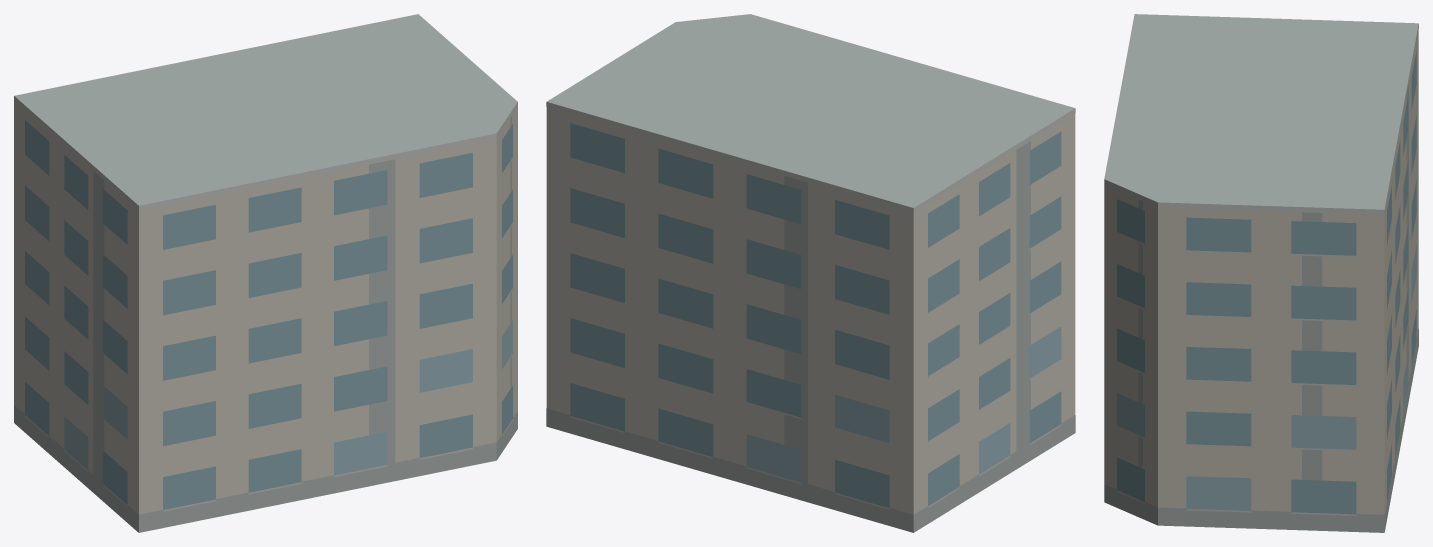
The model's file is survey-upis-32768497.glb.
3 renders of one model, left to right at view 1: azimuth 30°, elevation 25°; view 2: azimuth 150°, elevation 25°; view 3: azimuth 270°, elevation 25°, orthographic.
Parts seen in each view (by area): view 1: survey-upis-32768497.tmp; view 2: survey-upis-32768497.tmp; view 3: survey-upis-32768497.tmp.
Part boxes in pixels (x1,y1,x2,y2): survey-upis-32768497.tmp: (14, 14, 517, 532); survey-upis-32768497.tmp: (546, 14, 1075, 532); survey-upis-32768497.tmp: (1104, 14, 1418, 532).
Bounding box in the file's own units: 19.37 × 14.9 × 13.15.
